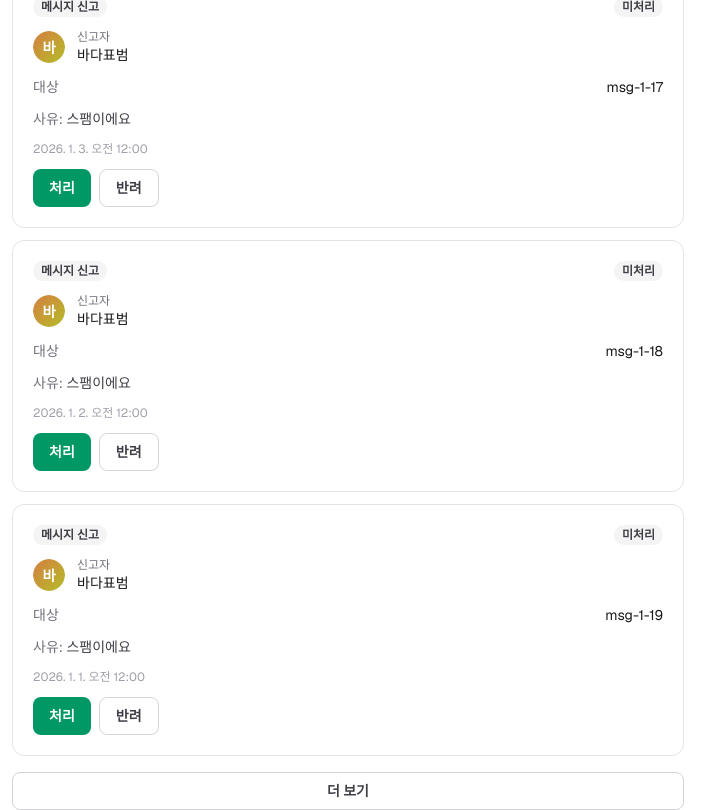
ReportList › 한 쪽이 꽉 차면 '더 보기'가 뜨고, 마지막 신고를 커서로 다음 쪽을 이어 붙인다
The image size is (701, 810).
(page scrolled)
Click the button "더 보기": [348, 791] box [12,772,684,809]
(page scrolled)
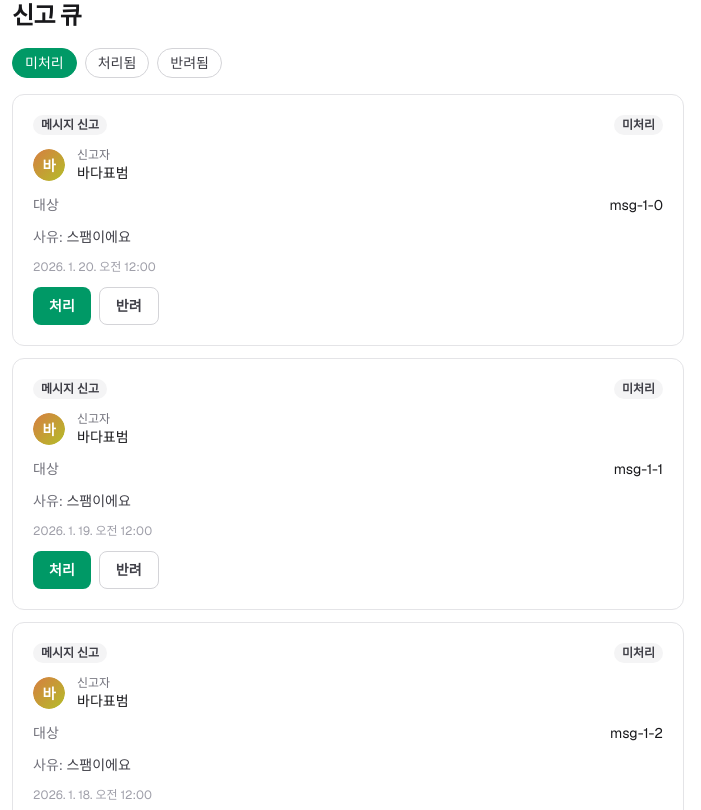
Expected: the text "msg-1-0" is shown, [610,195,663,215]
Now the button "더 보기" is gone
